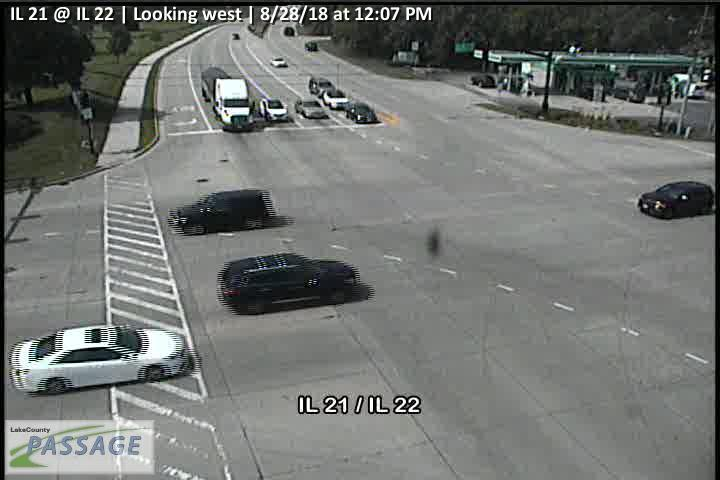SUV: (217, 252, 359, 316), (168, 189, 274, 236), (638, 181, 715, 219), (258, 97, 289, 121), (322, 88, 349, 109), (309, 76, 334, 97)
Sedan: (9, 323, 190, 395), (294, 96, 327, 119), (344, 102, 378, 123), (270, 56, 287, 67)
Truck: (200, 67, 256, 131)
